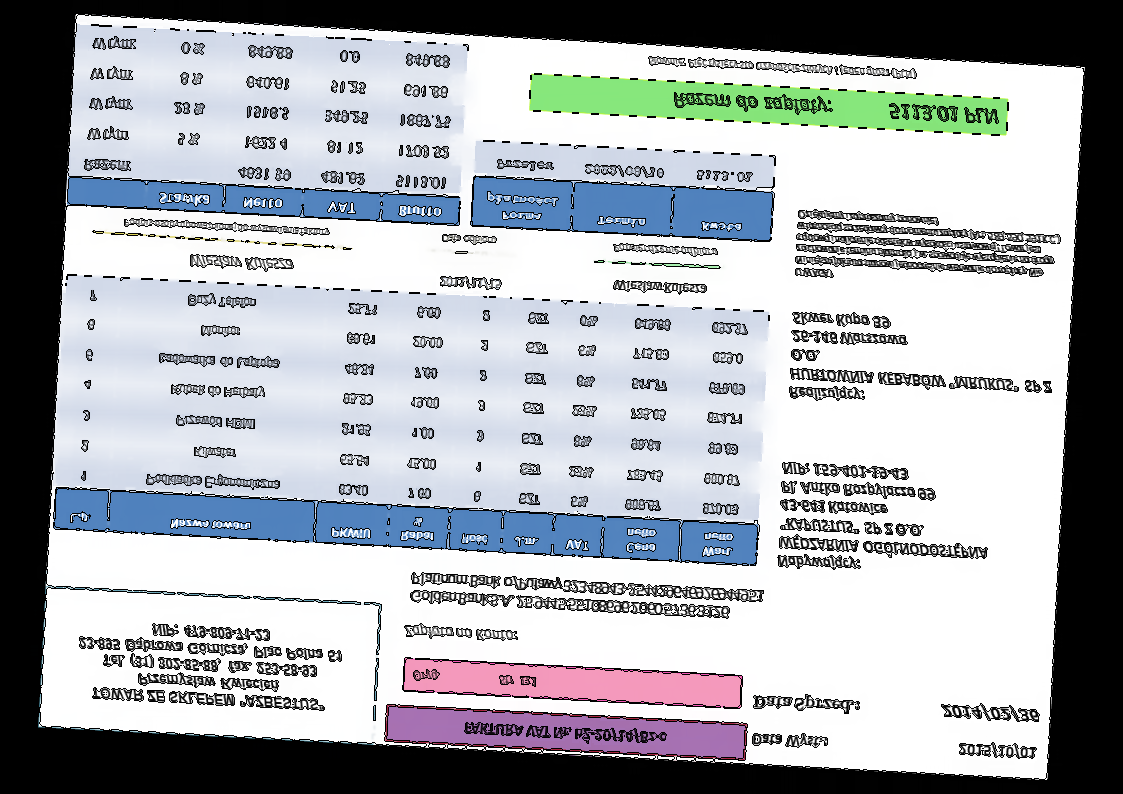Table: (52, 275, 769, 569), (66, 24, 469, 227), (469, 139, 777, 243)
TextBox: (787, 309, 1057, 416), (73, 616, 347, 714), (776, 458, 996, 580), (792, 207, 1064, 292), (409, 569, 767, 623), (670, 89, 1001, 129), (647, 53, 918, 82), (463, 717, 669, 750), (122, 215, 331, 241), (401, 620, 520, 646), (752, 690, 864, 716), (186, 250, 296, 276), (410, 668, 539, 690), (940, 699, 1042, 725), (611, 240, 719, 260), (611, 277, 709, 299), (957, 740, 1038, 762), (751, 730, 830, 751), (437, 272, 503, 293), (439, 232, 497, 248)
